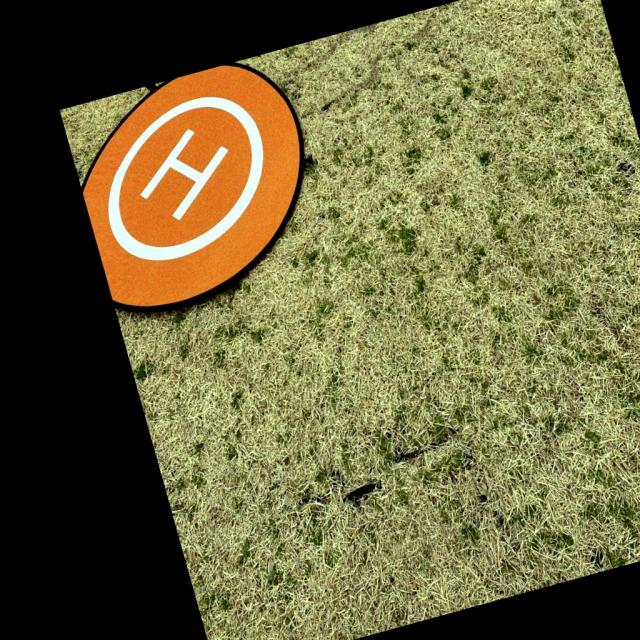helipad: (104, 92, 266, 265)
